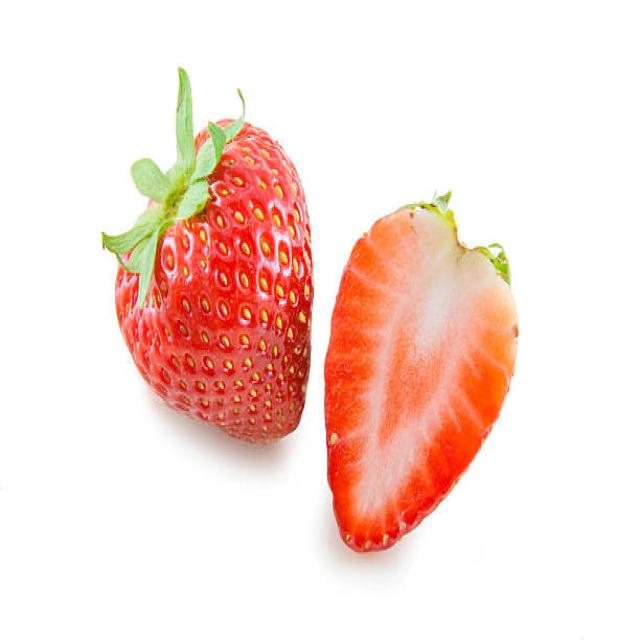Healthy Fruit: (114, 119, 310, 441)
